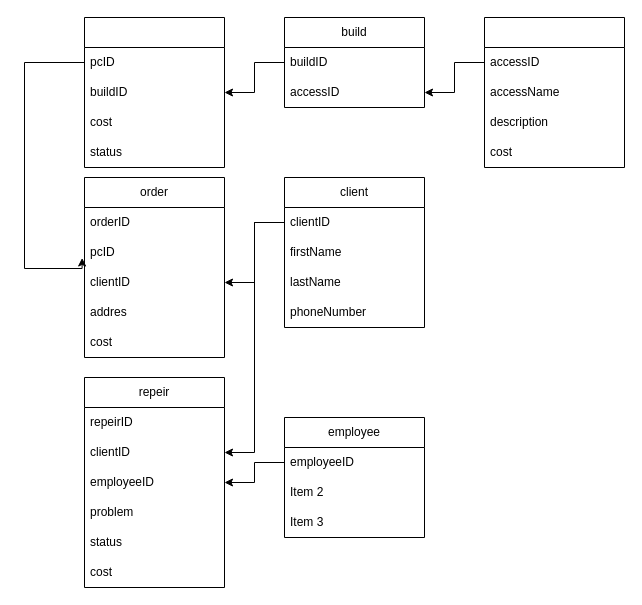
Image size: 642x605. Some labels were removed from this diagram. Each missing label, with the box of its shape:
accessories: (484, 16, 624, 168)
pc: (84, 16, 224, 168)
